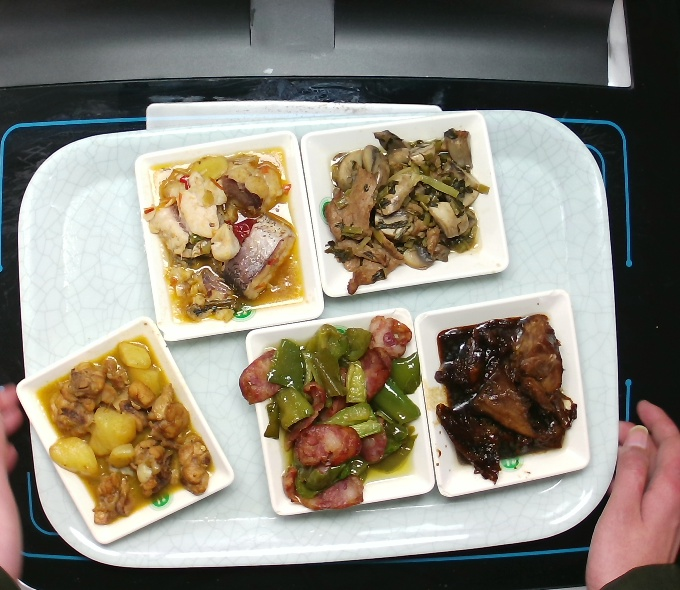wcq-JiangZhiYa: (433, 309, 578, 485)
wcq-MoGuRouPian: (319, 124, 487, 294)
wcq-QingJiaoXiangChang: (235, 313, 422, 516)
wcq-SuanCaiYu: (145, 143, 306, 326)
wcq-TuDouJiKuai: (35, 333, 216, 528)
